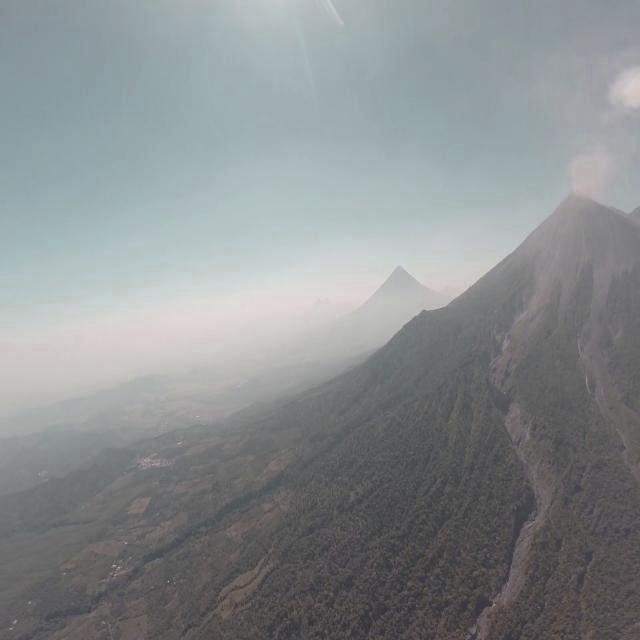Plume: (604, 23, 640, 120), (568, 148, 618, 202)
